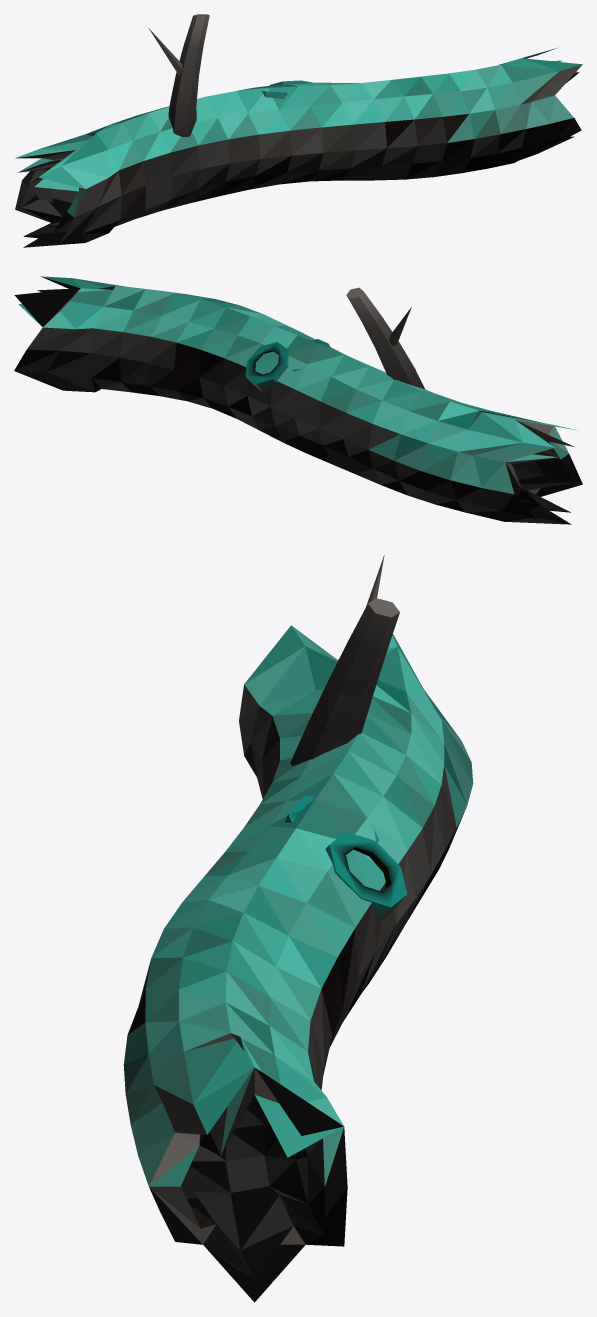
Rendered from pohon_tumbang_hollow_swamp_521570.glb.
The picture shows the model from 3 angles, top to bottom: view 1: azimuth 30°, elevation 25°; view 2: azimuth 150°, elevation 25°; view 3: azimuth 270°, elevation 25°; orthographic projection. The views are drawn at different scales.
Visible parts, largest first — view 1: Batang_Pohon_Berlubang; view 2: Batang_Pohon_Berlubang; view 3: Batang_Pohon_Berlubang.
Part boxes in pixels (left/top/right/bottom): Batang_Pohon_Berlubang: left=15, top=14, right=582, bottom=247; Batang_Pohon_Berlubang: left=14, top=276, right=582, bottom=524; Batang_Pohon_Berlubang: left=123, top=554, right=473, bottom=1302.
Bounding box in the file's own units: 5.56 × 1.83 × 1.58.
